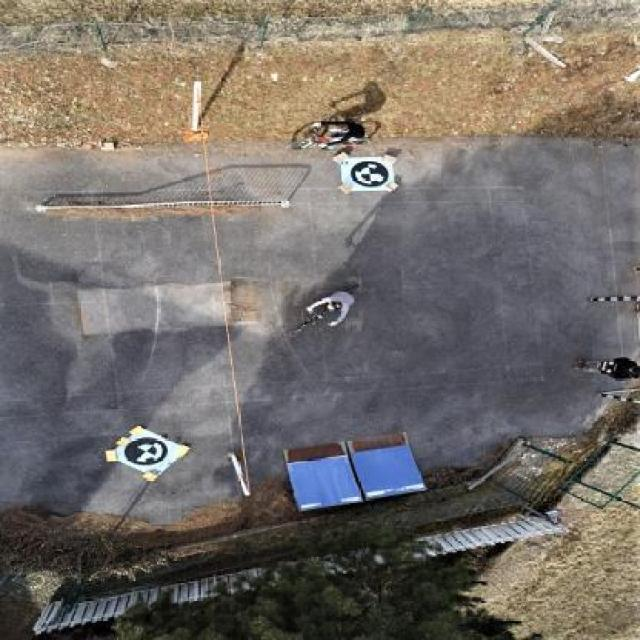Person: (568, 348, 640, 389), (298, 286, 360, 329), (308, 115, 372, 152)
